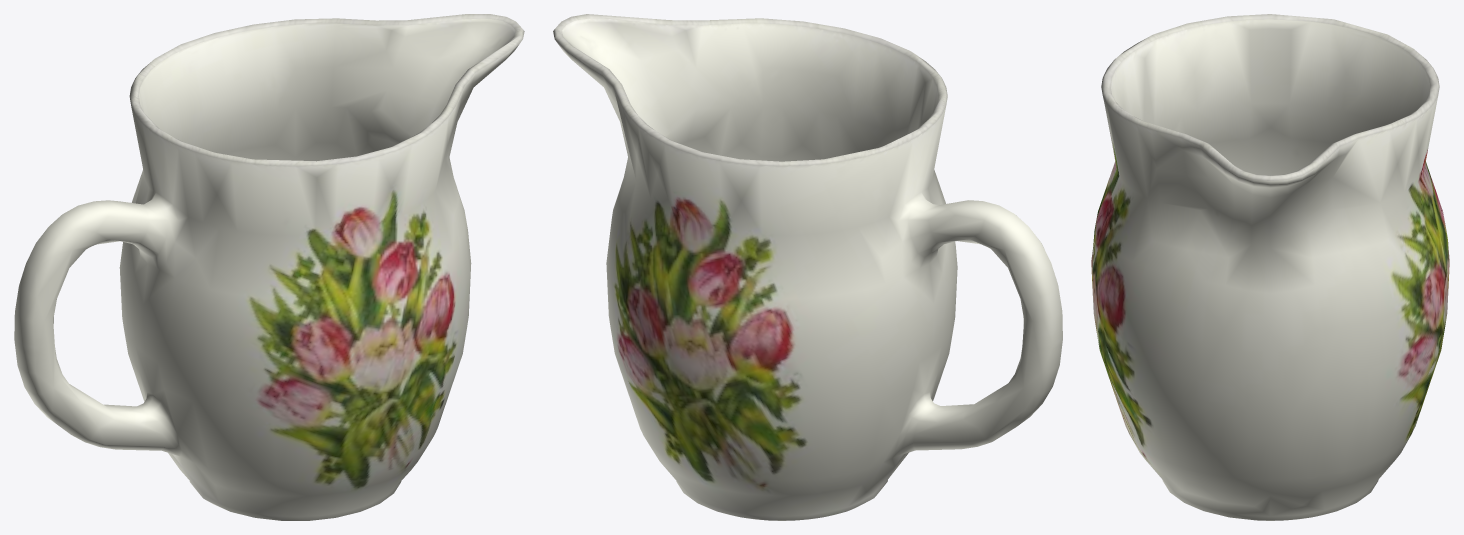
File: jug_01.glb
3 views of the same model, side by side, from view 1: azimuth 30°, elevation 25°; view 2: azimuth 150°, elevation 25°; view 3: azimuth 270°, elevation 25° (orthographic). The views are drawn at different scales.
Visible parts, largest first — view 1: jug_01; view 2: jug_01; view 3: jug_01.
Part boxes in pixels (bbox=[...]): jug_01: bbox=[14, 14, 524, 520]; jug_01: bbox=[553, 14, 1062, 520]; jug_01: bbox=[1091, 14, 1449, 520].
Size of the model in its own units: 0.275 by 0.2113 by 0.1675.
Materials: 1 (1 with a texture image).
